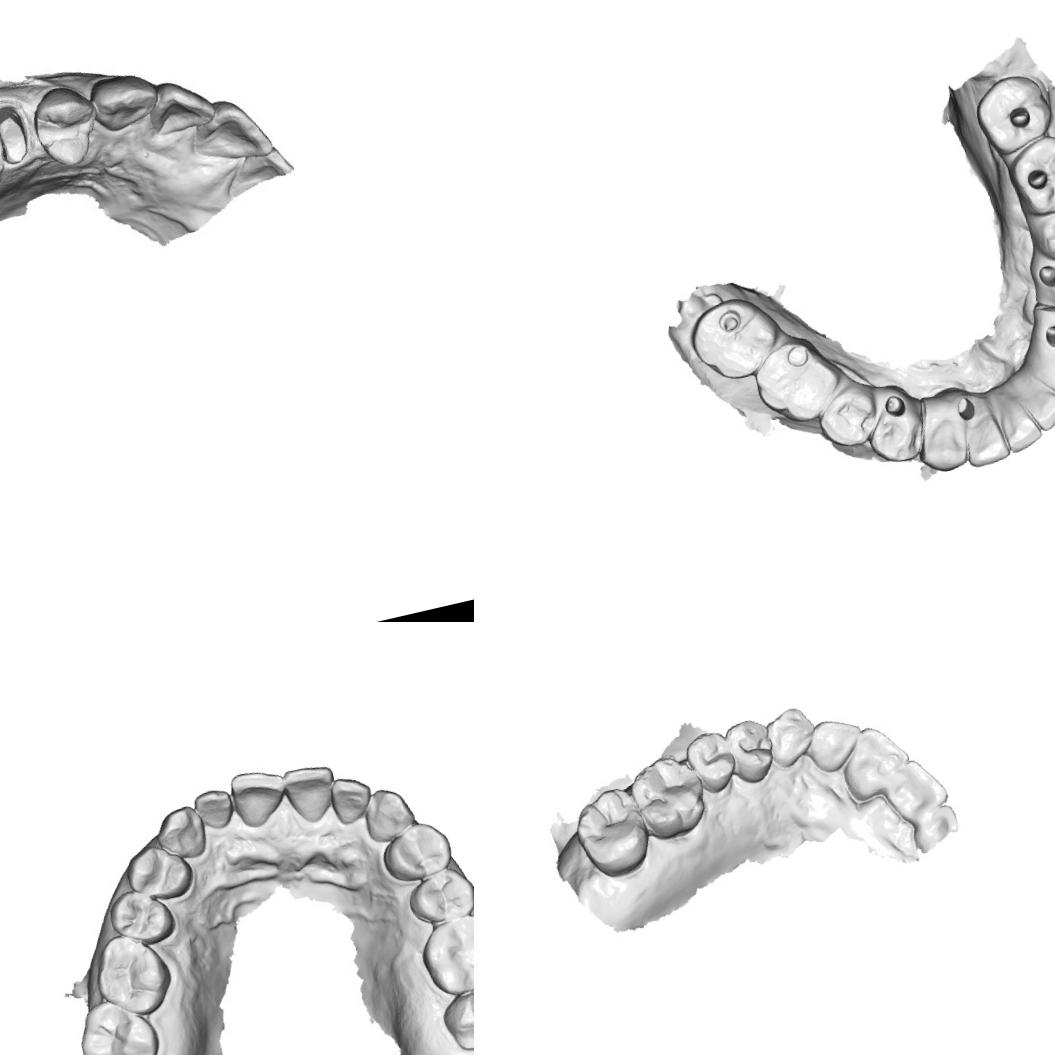canine: (84, 64, 164, 145), (905, 392, 971, 478), (759, 702, 823, 772), (358, 782, 420, 846), (152, 802, 212, 866), (1022, 289, 1055, 374)
crown: (0, 93, 39, 174)
incisor: (181, 90, 275, 176), (833, 719, 918, 807), (142, 69, 222, 147), (878, 752, 954, 829), (985, 371, 1044, 456), (954, 388, 1012, 472), (226, 762, 294, 832), (802, 711, 870, 776), (279, 760, 343, 826), (1014, 361, 1055, 435), (325, 770, 378, 826), (189, 785, 238, 834), (1033, 343, 1055, 410)
molar: (684, 288, 788, 390), (746, 330, 850, 432), (86, 925, 178, 1025), (566, 782, 656, 882), (624, 750, 714, 846), (967, 66, 1055, 163), (71, 989, 167, 1055), (413, 910, 474, 1001), (999, 126, 1055, 222), (435, 973, 474, 1055)
premolar: (22, 75, 109, 175), (853, 379, 930, 470), (810, 379, 884, 460), (374, 816, 458, 887), (120, 837, 198, 909), (103, 882, 178, 952), (402, 862, 474, 929), (681, 725, 744, 800), (722, 714, 780, 788), (1027, 243, 1055, 320), (1026, 198, 1055, 270)
